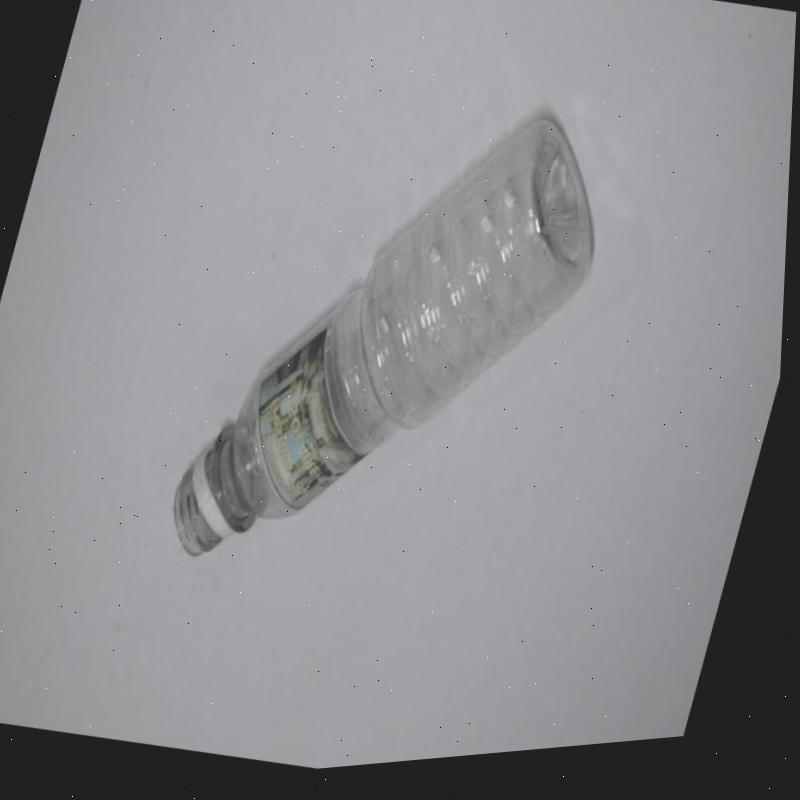botella: (158, 57, 635, 636)
